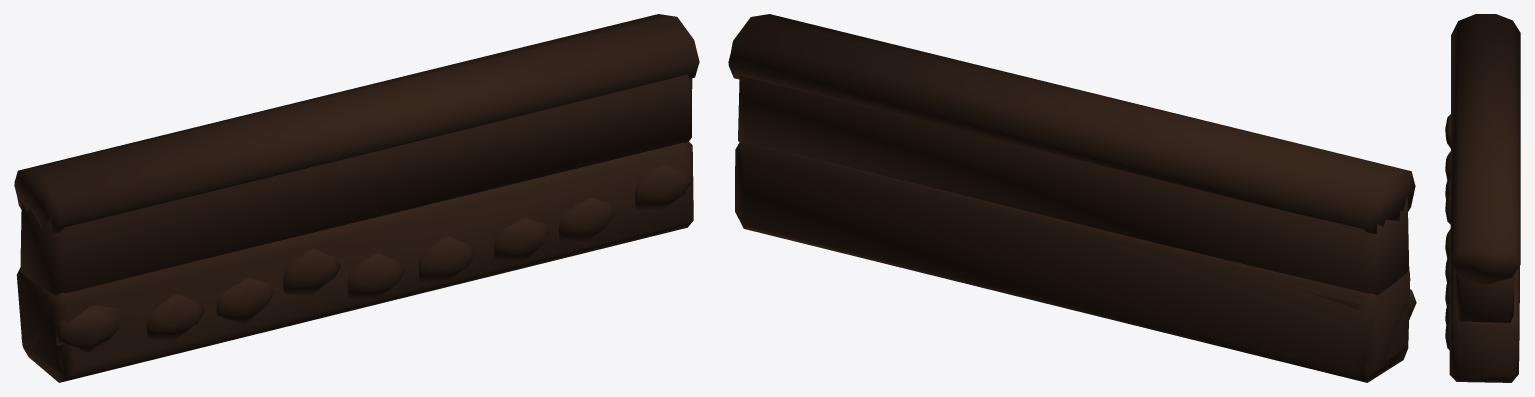
Rendered from garden_wall.glb.
3 renders of one model, left to right at view 1: azimuth 30°, elevation 25°; view 2: azimuth 150°, elevation 25°; view 3: azimuth 270°, elevation 25°, orthographic. The views are drawn at different scales.
Parts seen in each view (by area): view 1: garden_wall_LOD1_outline, garden_wall_outline; view 2: garden_wall_LOD1_outline, garden_wall_outline; view 3: garden_wall_LOD1_outline, garden_wall_outline.
Boxes of the visible parts, x1,y1,x2,y2 form: garden_wall_LOD1_outline: [14, 14, 699, 382]; garden_wall_outline: [14, 15, 699, 374]; garden_wall_LOD1_outline: [728, 14, 1416, 382]; garden_wall_outline: [728, 25, 1415, 372]; garden_wall_LOD1_outline: [1445, 14, 1520, 382]; garden_wall_outline: [1449, 164, 1518, 334].
Size of what is drawn, in the model's own units: 4.07 by 1.21 by 0.5648.
